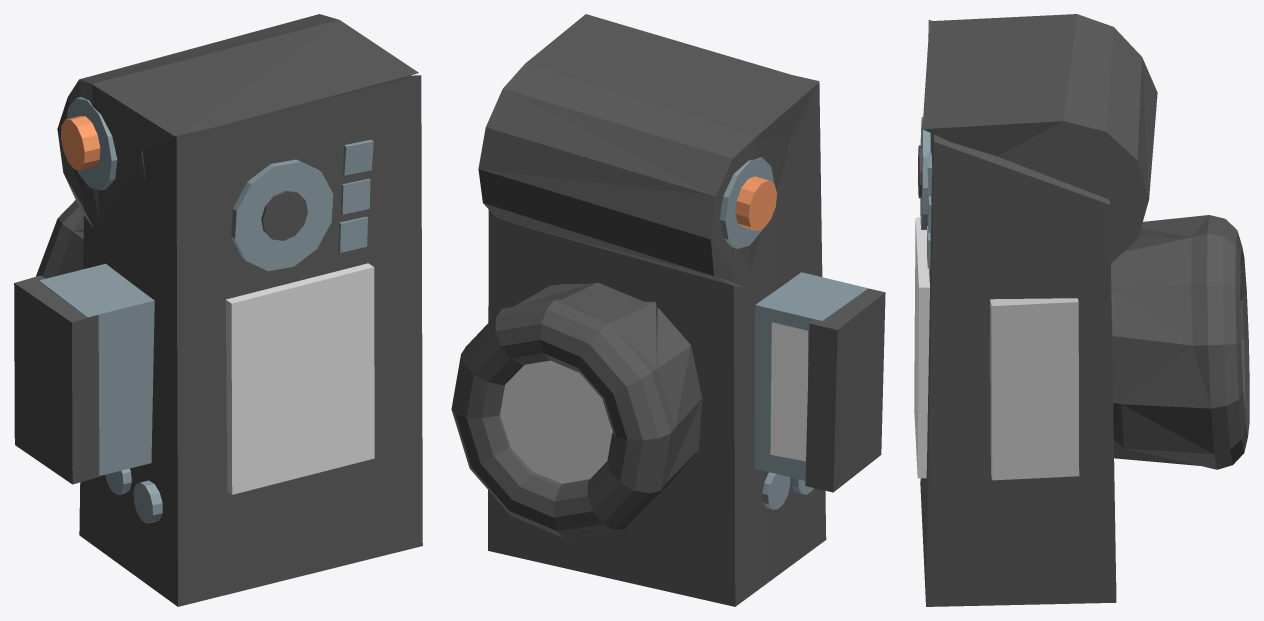
File: camera.fbx
The picture shows the model from 3 angles, left to right: view 1: azimuth 30°, elevation 25°; view 2: azimuth 150°, elevation 25°; view 3: azimuth 270°, elevation 25°; orthographic projection.
Visible parts, largest first — view 1: mesh_187960395, mesh_1442659403, mesh_1050759265, mesh_1841487932, mesh_1660282777, mesh_326494754, mesh_421370910, mesh_417813621, mesh_1230812601, mesh_1481700145, mesh_1049064424, mesh_869650960 (+2 smaller); view 2: mesh_1050759265, mesh_187960395, mesh_421370910, mesh_1841487932, mesh_1660282777, mesh_1770708456, mesh_417813621, mesh_1481700145, mesh_1103111000; view 3: mesh_187960395, mesh_1050759265, mesh_421370910, mesh_52072815, mesh_1442659403, mesh_326494754.
Part boxes in pixels (x1,y1,x2,y2): mesh_187960395: [79, 75, 422, 606]; mesh_1442659403: [225, 263, 374, 494]; mesh_1050759265: [57, 14, 418, 228]; mesh_1841487932: [14, 275, 99, 484]; mesh_1660282777: [39, 263, 154, 475]; mesh_326494754: [231, 159, 333, 271]; mesh_421370910: [36, 200, 83, 278]; mesh_417813621: [66, 97, 117, 190]; mesh_1230812601: [261, 190, 307, 240]; mesh_1481700145: [61, 116, 100, 169]; mesh_1049064424: [133, 480, 162, 523]; mesh_869650960: [343, 139, 373, 175]; mesh_1050759265: [478, 14, 816, 286]; mesh_187960395: [488, 74, 826, 606]; mesh_421370910: [451, 282, 702, 538]; mesh_1841487932: [805, 288, 885, 492]; mesh_1660282777: [754, 272, 868, 480]; mesh_1770708456: [500, 360, 612, 483]; mesh_417813621: [720, 157, 774, 248]; mesh_1481700145: [735, 176, 776, 231]; mesh_1103111000: [762, 472, 790, 509]; mesh_187960395: [920, 20, 1116, 606]; mesh_1050759265: [922, 14, 1157, 263]; mesh_421370910: [1111, 215, 1249, 469]; mesh_52072815: [990, 298, 1079, 480]; mesh_1442659403: [914, 217, 929, 478]; mesh_326494754: [920, 116, 930, 229].
Bounding box in the file's own units: 50.02 × 37.96 × 31.58.
